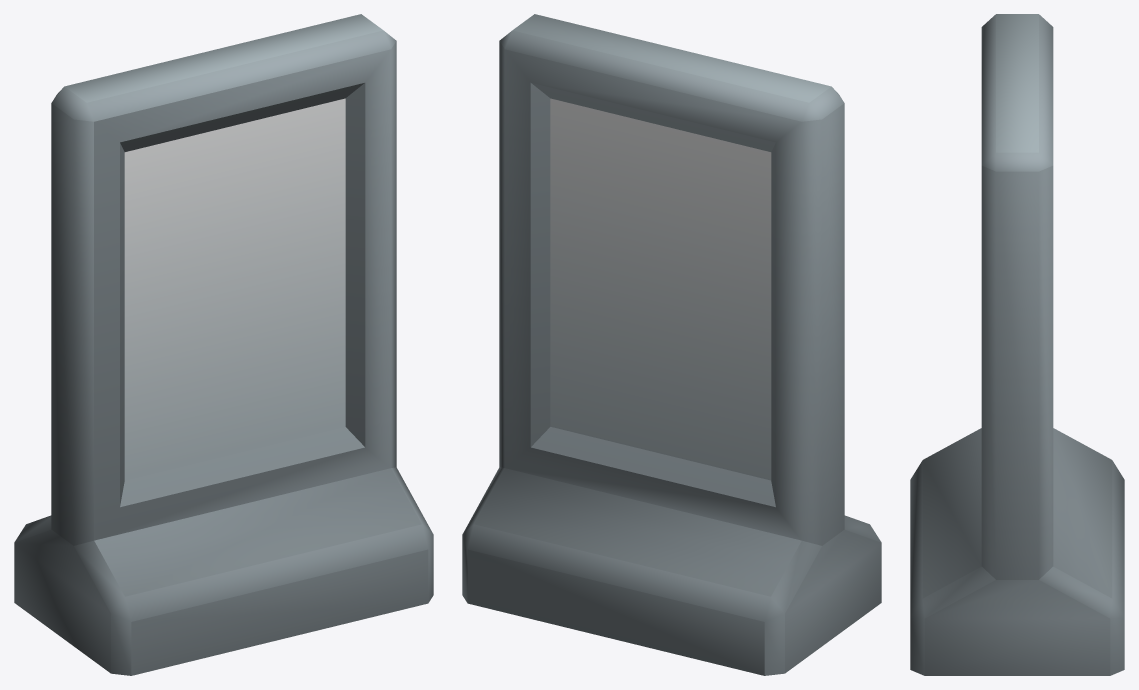
The model's file is menu.obj.
The picture shows the model from 3 angles, left to right: view 1: azimuth 30°, elevation 25°; view 2: azimuth 150°, elevation 25°; view 3: azimuth 270°, elevation 25°; orthographic projection. The views are drawn at different scales.
Parts seen in each view (by area): view 1: menu_Cube.18195; view 2: menu_Cube.18195; view 3: menu_Cube.18195.
Part boxes in pixels (box(x1,y1,x2,y2)): menu_Cube.18195: box(14, 14, 433, 675); menu_Cube.18195: box(462, 14, 881, 675); menu_Cube.18195: box(910, 14, 1124, 675).
Bounding box in the file's own units: 0.5 × 0.8 × 0.3.
Materials: 1 (1 with a texture image).
